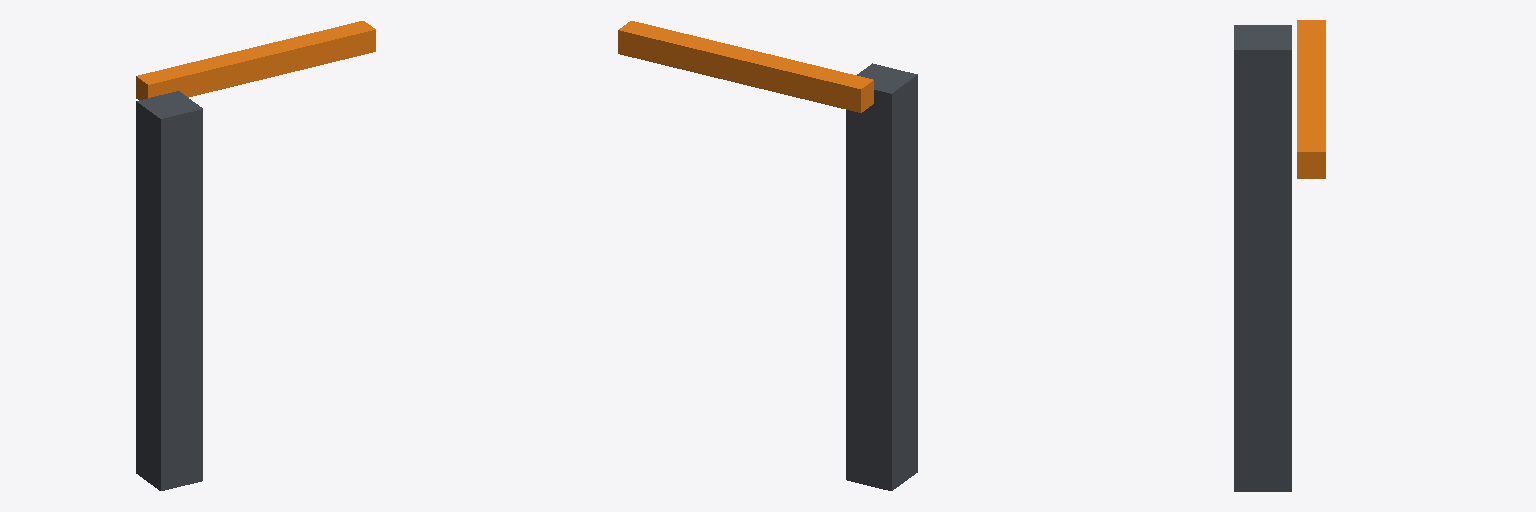
The robot description file, URDF, robot "brake_arm":
<?xml version="1.0"?>
<!-- A one-joint arm with a holding brake (RFC 0020, "Also worth adding"), the sample of
     docs/physics/actuators.md "Holding brakes": a 1 kg arm 0.3 m out from a horizontal shoulder,
     so gravity pulls it down with 2.94 N·m at the horizontal. The brake is in
     brake_arm.overlay.yaml. Dimensions are illustrative, not a real product. -->
<robot name="brake_arm">
  <link name="world"/>
  <link name="post">
    <inertial>
      <origin xyz="0 0 0.25"/>
      <mass value="2.0"/>
      <inertia ixx="0.04" iyy="0.04" izz="0.005" ixy="0" ixz="0" iyz="0"/>
    </inertial>
    <visual>
      <origin xyz="0 0 0.25"/>
      <geometry><box size="0.06 0.06 0.5"/></geometry>
      <material name="grey"><color rgba="0.35 0.37 0.4 1"/></material>
    </visual>
    <collision>
      <origin xyz="0 0 0.25"/>
      <geometry><box size="0.06 0.06 0.5"/></geometry>
    </collision>
  </link>
  <joint name="post_fixed" type="fixed">
    <parent link="world"/>
    <child link="post"/>
  </joint>
  <link name="arm">
    <inertial>
      <origin xyz="0.3 0 0"/>
      <mass value="1.0"/>
      <inertia ixx="0.0005" iyy="0.001" izz="0.001" ixy="0" ixz="0" iyz="0"/>
    </inertial>
    <visual>
      <origin xyz="0.15 0 0"/>
      <geometry><box size="0.32 0.03 0.03"/></geometry>
      <material name="orange"><color rgba="0.95 0.55 0.15 1"/></material>
    </visual>
  </link>
  <joint name="shoulder" type="revolute">
    <parent link="post"/>
    <child link="arm"/>
    <origin xyz="0 0.05 0.5"/>
    <axis xyz="0 1 0"/>
    <limit lower="-2.5" upper="2.5" effort="20" velocity="10"/>
  </joint>
</robot>

--- Render facts (derived) ---
3 views of the same robot in one strip: view 1: azimuth 30°, elevation 25°; view 2: azimuth 150°, elevation 25°; view 3: azimuth 270°, elevation 25° (orthographic).
Robot: brake_arm — 3 links, 2 joints (1 revolute, 1 fixed); root link world; default pose: every joint at zero.
Visible links, largest first — view 1: post, arm; view 2: post, arm; view 3: post, arm.
Boxes of the visible links, box(x1,y1,x2,y2) form: post: box(136, 91, 202, 490); arm: box(136, 21, 375, 99); post: box(846, 63, 917, 490); arm: box(618, 21, 873, 112); post: box(1234, 25, 1291, 491); arm: box(1297, 20, 1325, 178).
Size in the robot's own frame: 0.34 by 0.095 by 0.515 metres.
Geometry: primitives only (box / cylinder / sphere), no mesh files.
